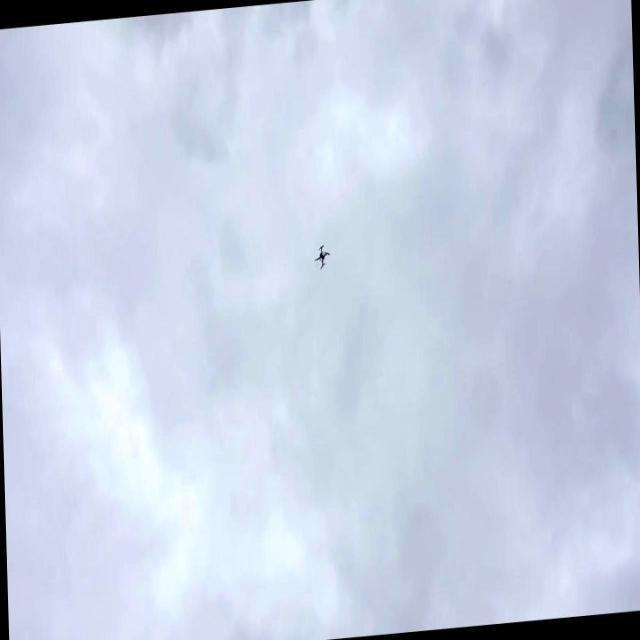drone: (309, 238, 333, 273)
